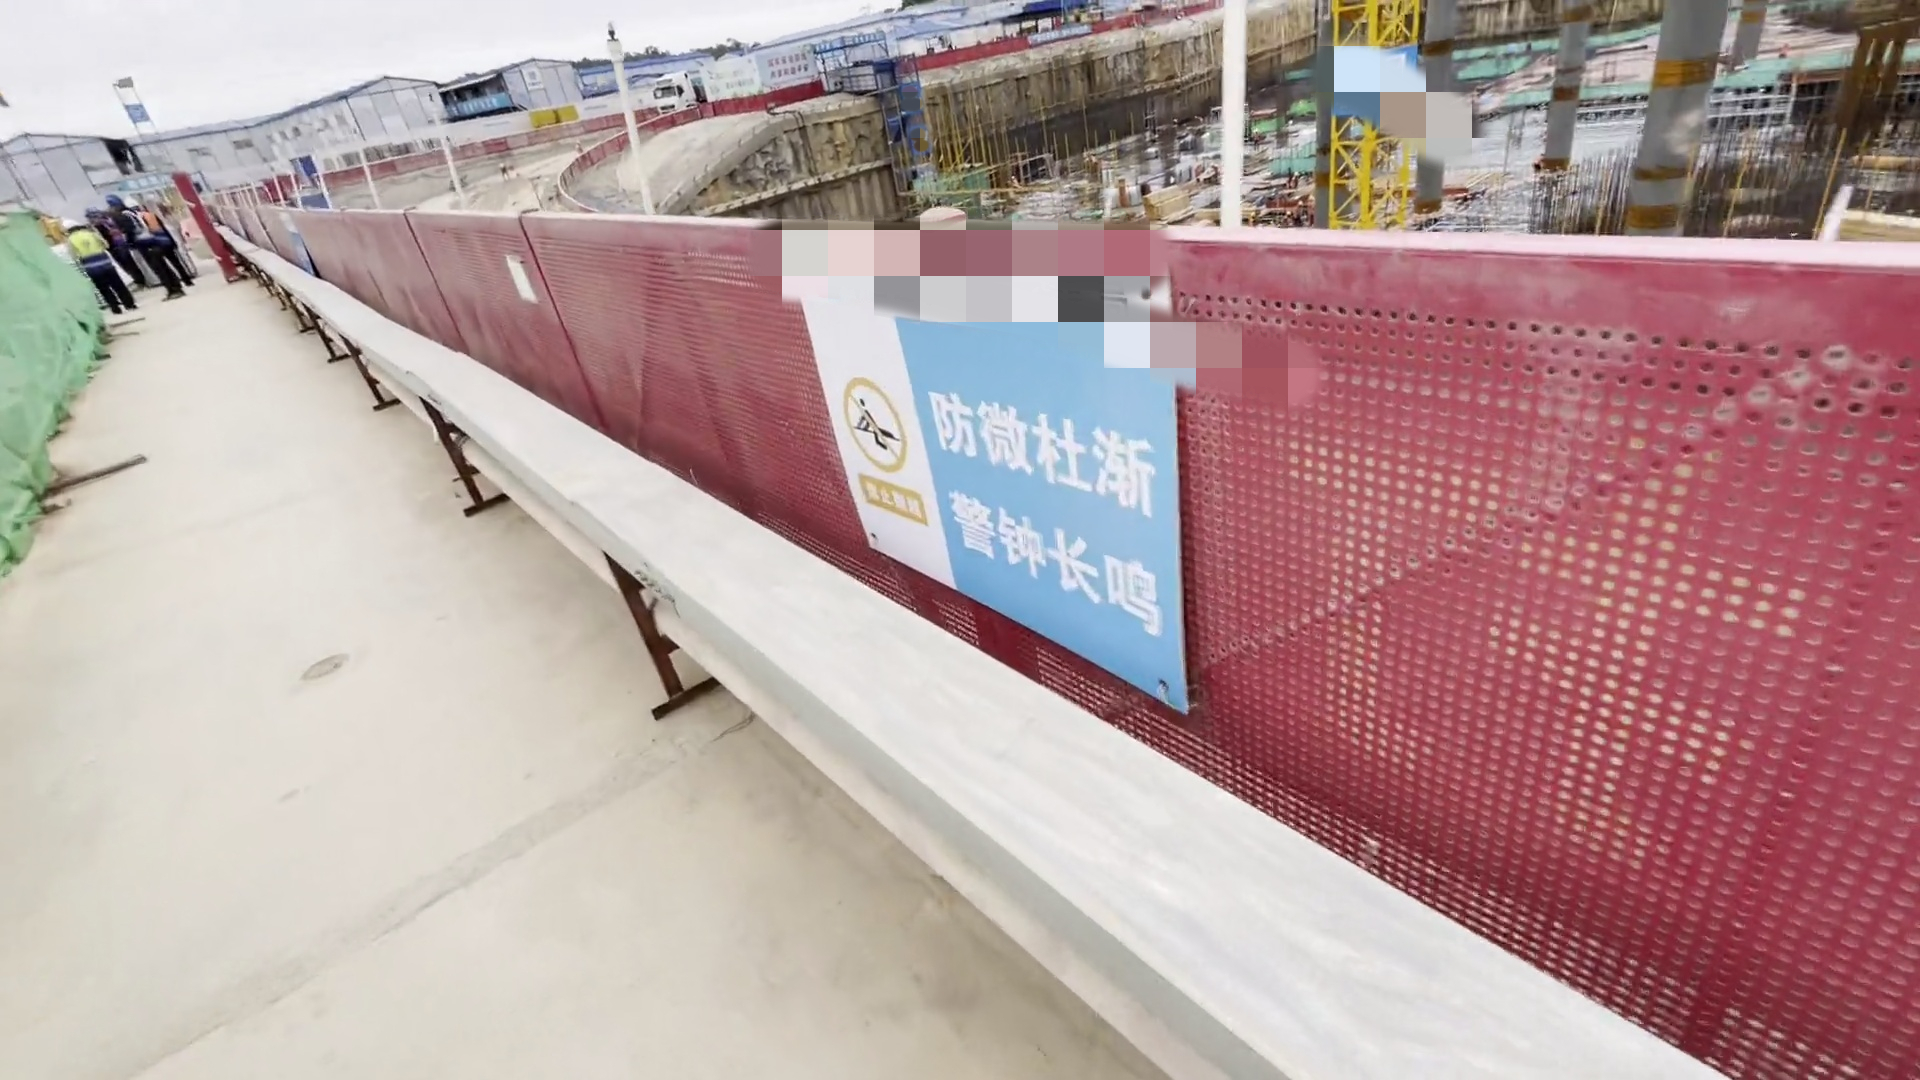fence: (213, 151, 1810, 978)
helmet: (79, 201, 114, 234), (102, 187, 132, 209), (60, 217, 78, 235)
person: (57, 210, 141, 328), (115, 195, 199, 313)
slogan: (820, 296, 1191, 708), (423, 56, 581, 186), (701, 42, 831, 124)
vest: (112, 208, 167, 252), (65, 230, 108, 269)
